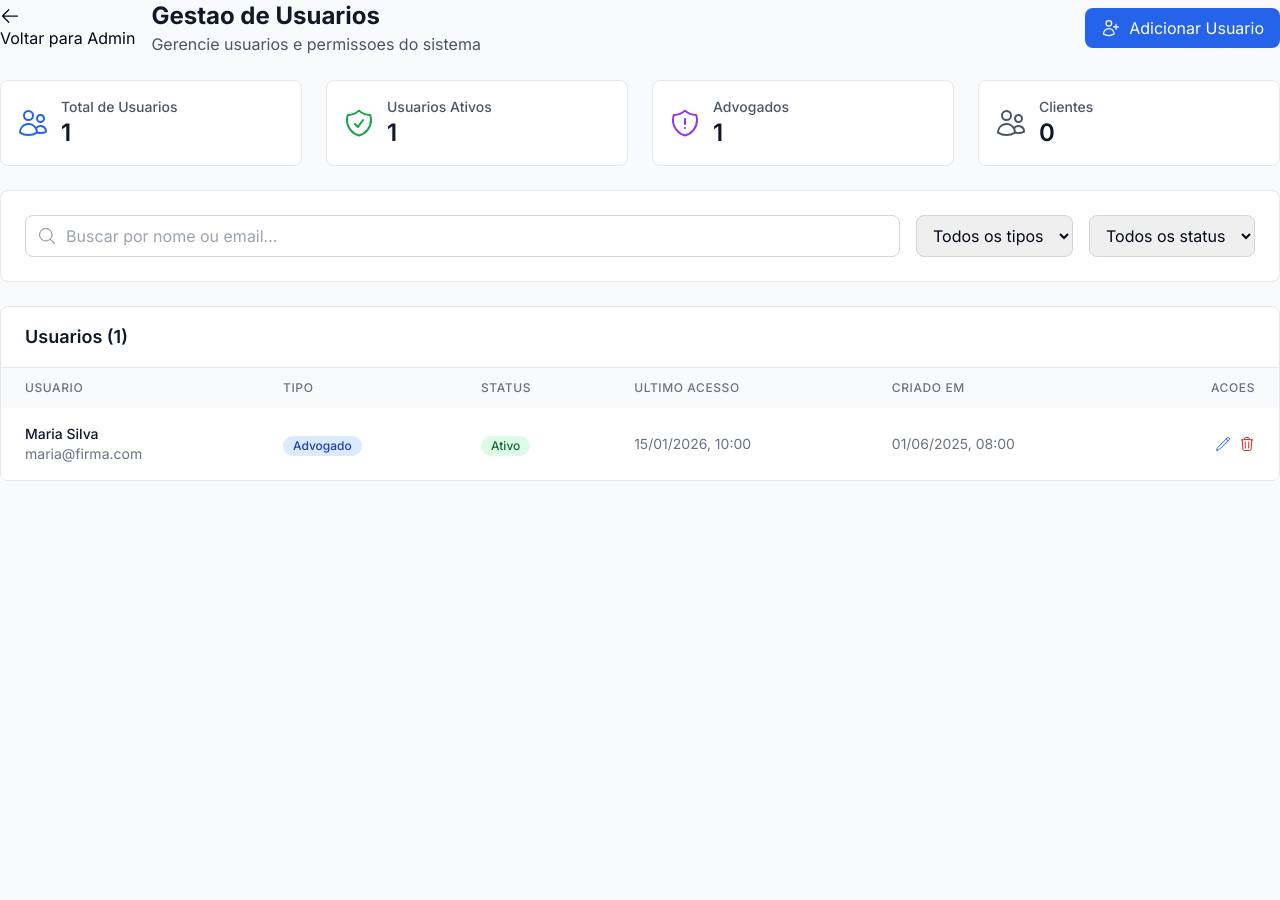
it: UsersManagementPage › Create modal › shows password fields when creating
The image size is (1280, 900).
Click the button "Adicionar Usuario". click: (1183, 28)
box: [1085,8,1279,48]
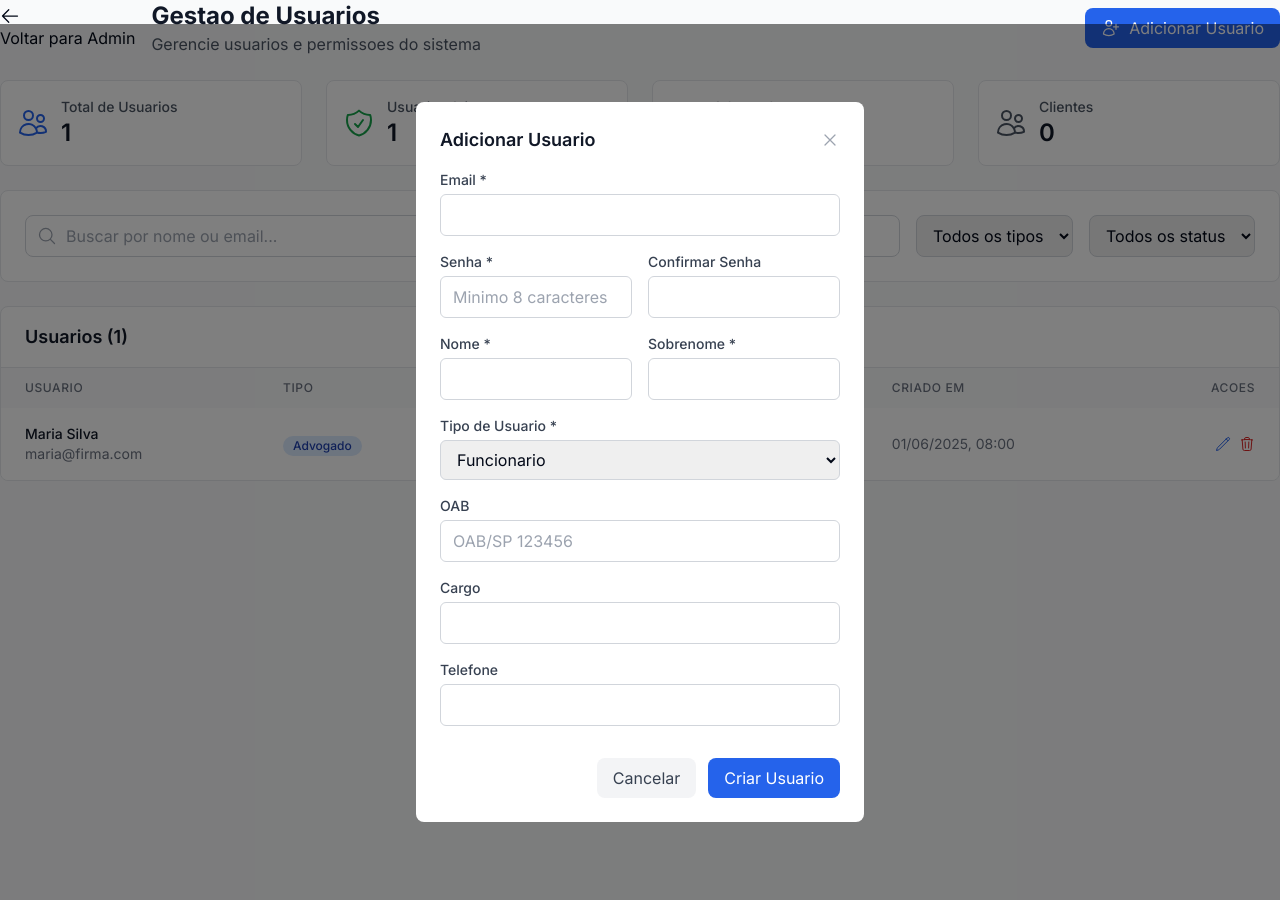
Expected: the text "Senha *" is shown, [440,253,493,270]
Expected: the text "Confirmar Senha" is shown, [648,253,761,270]
Expected: the password field with placeholder "Minimo 8 caracteres" is shown, [440,276,632,318]
